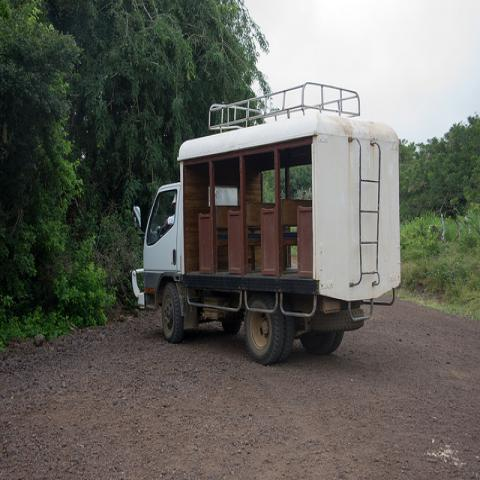truck: (131, 84, 402, 366)
